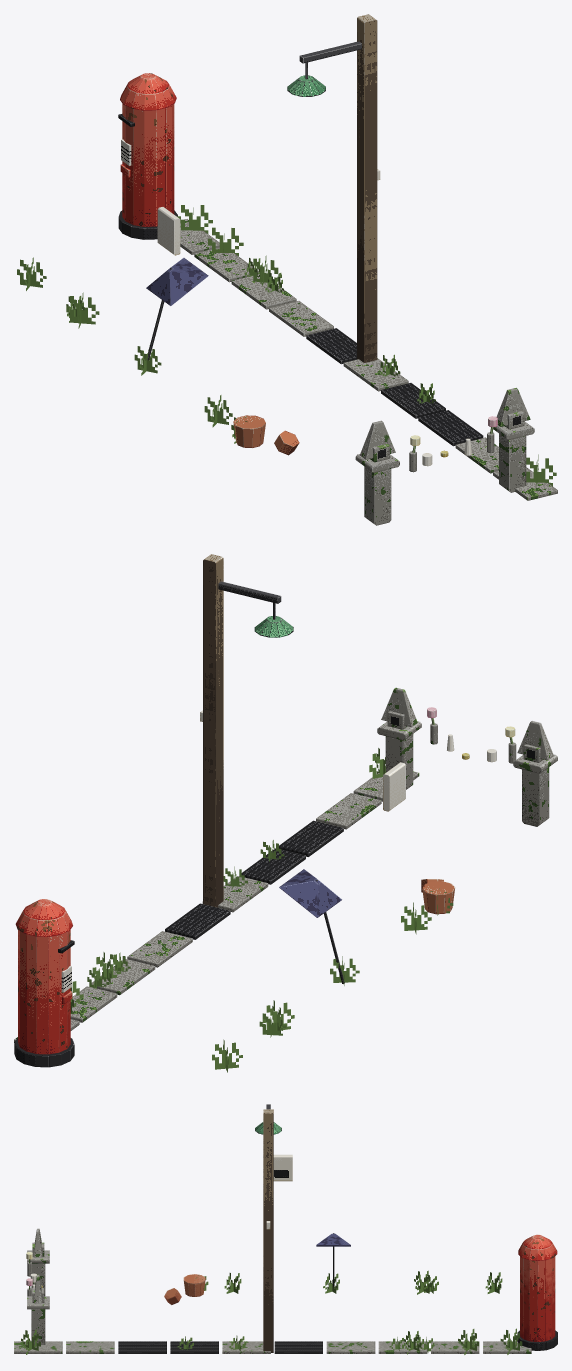
The model's file is ghost_alley.glb.
3 views of the same model, one above another, from view 1: azimuth 30°, elevation 25°; view 2: azimuth 150°, elevation 25°; view 3: azimuth 270°, elevation 25° (orthographic). The views are drawn at different scales.
Visible parts, largest first — view 1: ghost_alley; view 2: ghost_alley; view 3: ghost_alley.
Part boxes in pixels (left/top/right/bottom): ghost_alley: left=17, top=14, right=557, bottom=525; ghost_alley: left=14, top=554, right=557, bottom=1072; ghost_alley: left=14, top=1104, right=557, bottom=1354.
Bounding box in the file's own units: 1.93 × 3.08 × 6.26.
Materials: 1 (1 with a texture image).
